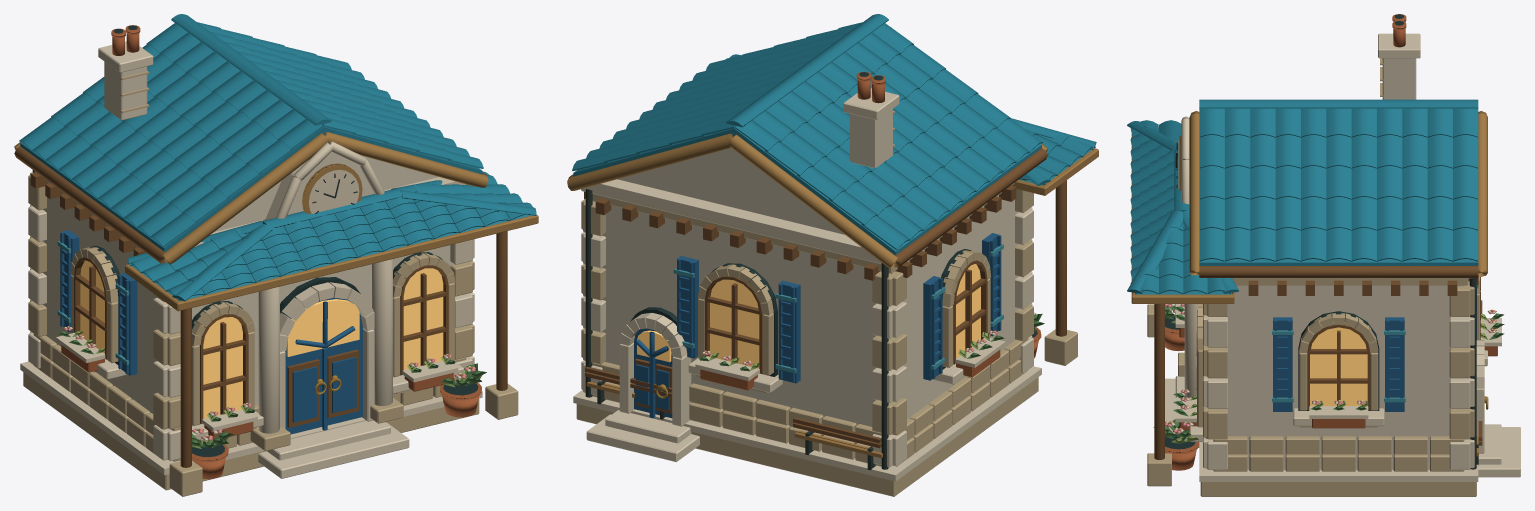
The picture shows the model from 3 angles, left to right: view 1: azimuth 30°, elevation 25°; view 2: azimuth 150°, elevation 25°; view 3: azimuth 270°, elevation 25°; orthographic projection. The views are drawn at different scales.
Visible parts, largest first — view 1: harbor_rush_station_geometry, harbor_rush_station_geometry ceramic; view 2: harbor_rush_station_geometry, harbor_rush_station_geometry ceramic; view 3: harbor_rush_station_geometry, harbor_rush_station_geometry ceramic.
Part boxes in pixels (x1=…): harbor_rush_station_geometry: x1=14, y1=25, x2=538, y2=496; harbor_rush_station_geometry ceramic: x1=19, y1=14, x2=536, y2=365; harbor_rush_station_geometry: x1=567, y1=27, x2=1098, y2=496; harbor_rush_station_geometry ceramic: x1=572, y1=14, x2=1096, y2=373; harbor_rush_station_geometry: x1=1131, y1=14, x2=1520, y2=496; harbor_rush_station_geometry ceramic: x1=1127, y1=99, x2=1478, y2=402.
Bounding box in the file's own units: 1.04 × 1.01 × 1.
